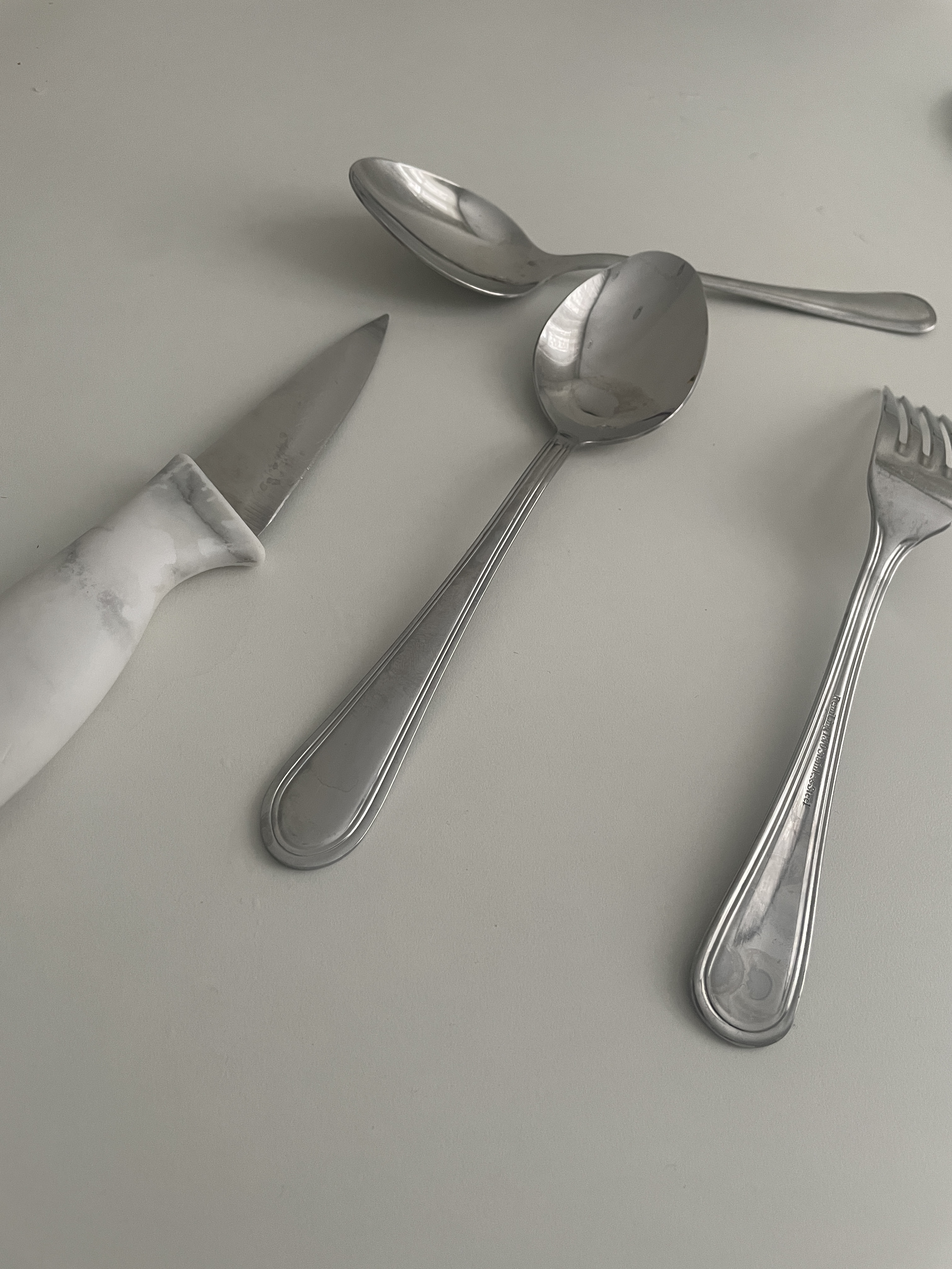knife: (0, 315, 388, 802)
spoon: (261, 251, 708, 868), (349, 157, 936, 336)
